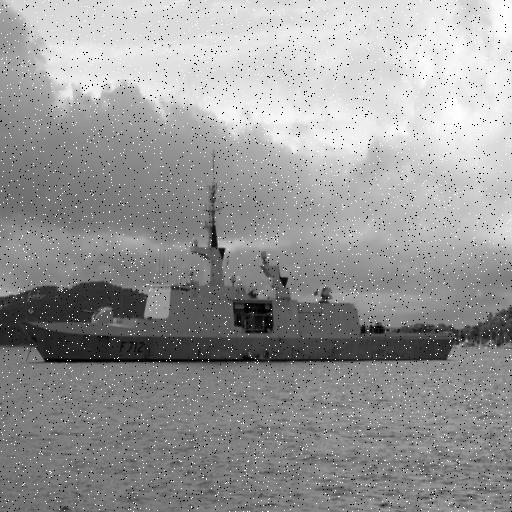Fragata: (19, 151, 467, 366)
